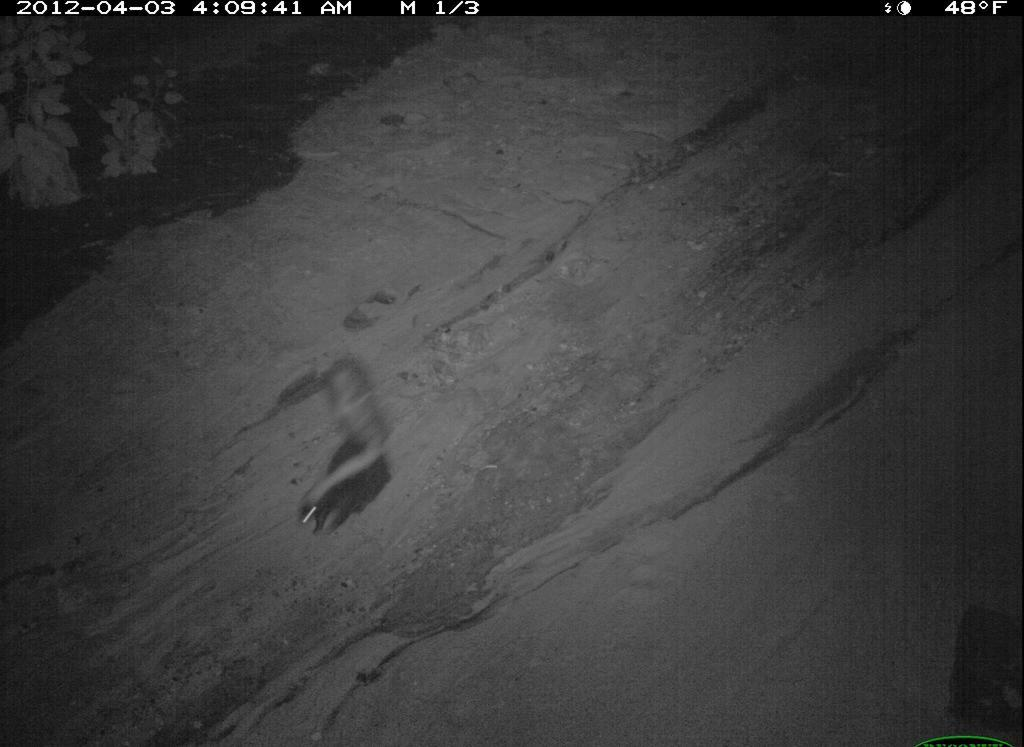skunk: (585, 708, 802, 747)
